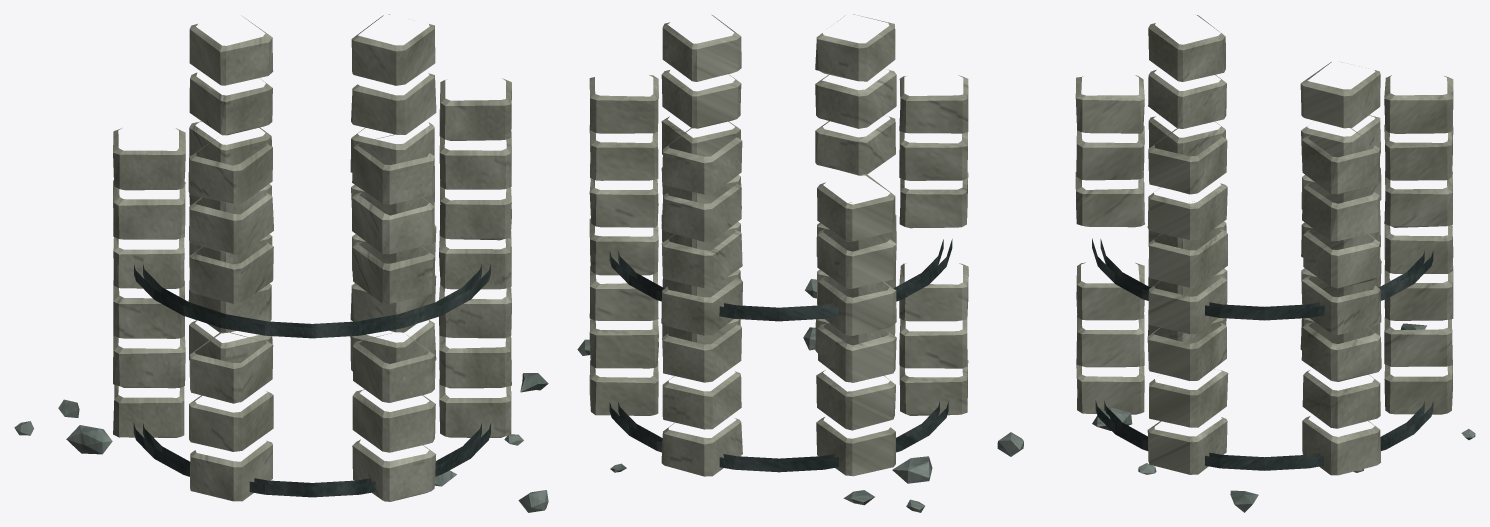
Rendered from 0414_ruined_tower_14.glb.
3 views of the same model, side by side, from view 1: azimuth 30°, elevation 25°; view 2: azimuth 150°, elevation 25°; view 3: azimuth 270°, elevation 25° (orthographic). The views are drawn at different scales.
Visible parts, largest first — view 1: stone_light, stone_dark, stone; view 2: stone_light, stone_dark, stone; view 3: stone_light, stone_dark, stone.
Part boxes in pixels (x1=…): stone_light: x1=113, y1=14, x2=511, y2=501; stone_dark: x1=133, y1=264, x2=490, y2=497; stone: x1=14, y1=373, x2=548, y2=512; stone_light: x1=589, y1=14, x2=968, y2=476; stone_dark: x1=609, y1=239, x2=952, y2=472; stone: x1=577, y1=279, x2=932, y2=512; stone_light: x1=1075, y1=15, x2=1453, y2=475; stone_dark: x1=1092, y1=238, x2=1433, y2=470; stone: x1=997, y1=323, x2=1475, y2=512.
Size of the model in its own units: 3.94 by 2.94 by 3.89.
Materials: 3 (3 with a texture image).
